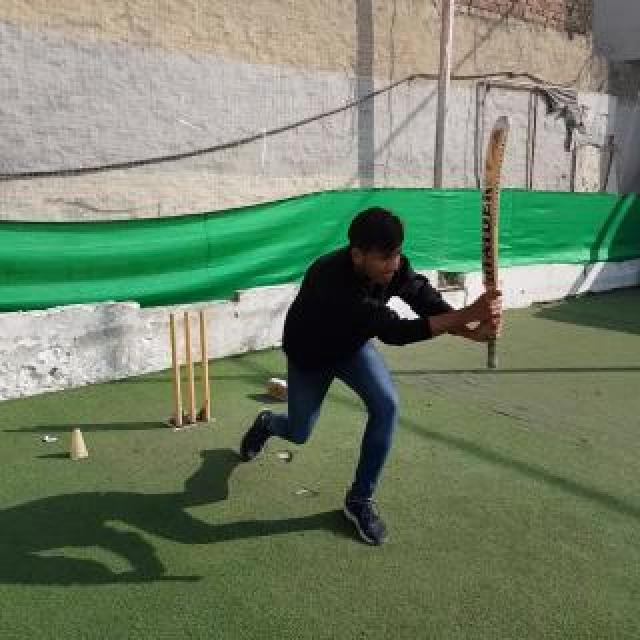bat: (482, 116, 514, 370)
